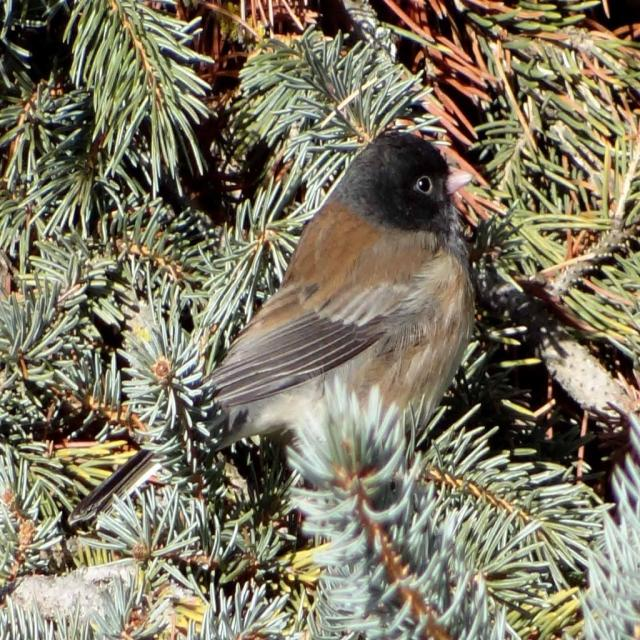bird: (205, 122, 484, 506)
